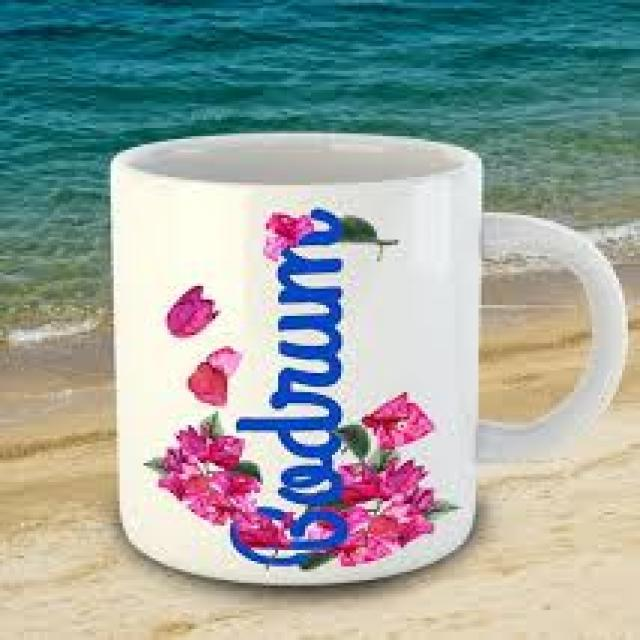taza: (110, 132, 629, 586)
